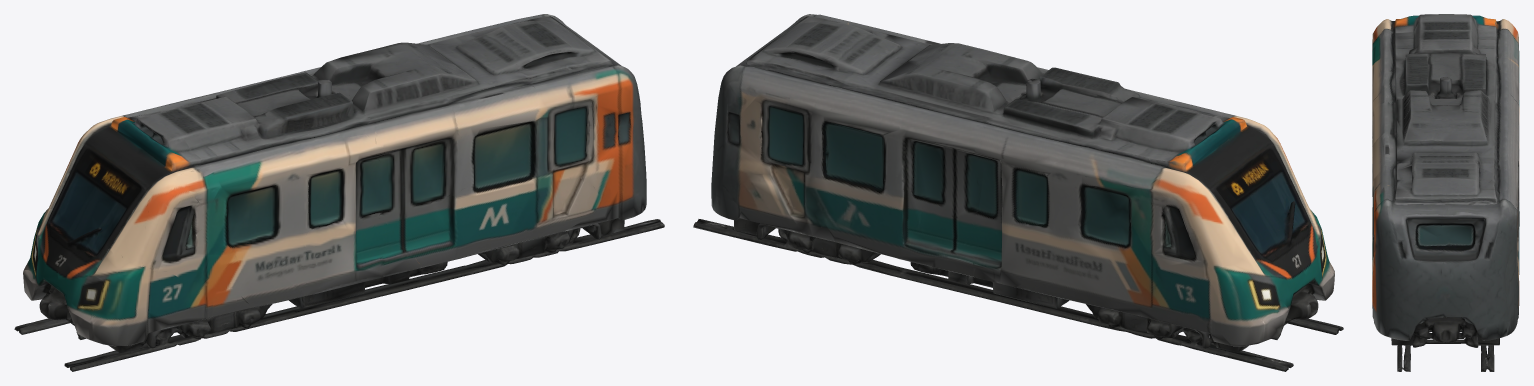
File: meridian-train.glb
3 renders of one model, left to right at view 1: azimuth 30°, elevation 25°; view 2: azimuth 150°, elevation 25°; view 3: azimuth 270°, elevation 25°, orthographic. The views are drawn at different scales.
Parts seen in each view (by area): view 1: mesh_node; view 2: mesh_node; view 3: mesh_node.
Part boxes in pixels (box(x1,y1,x2,y2)): mesh_node: box(14, 14, 664, 371); mesh_node: box(693, 14, 1343, 371); mesh_node: box(1372, 14, 1519, 371).
Size of the model in its own units: 1.9 by 0.6154 by 0.4911.
Materials: 1 (1 with a texture image).
